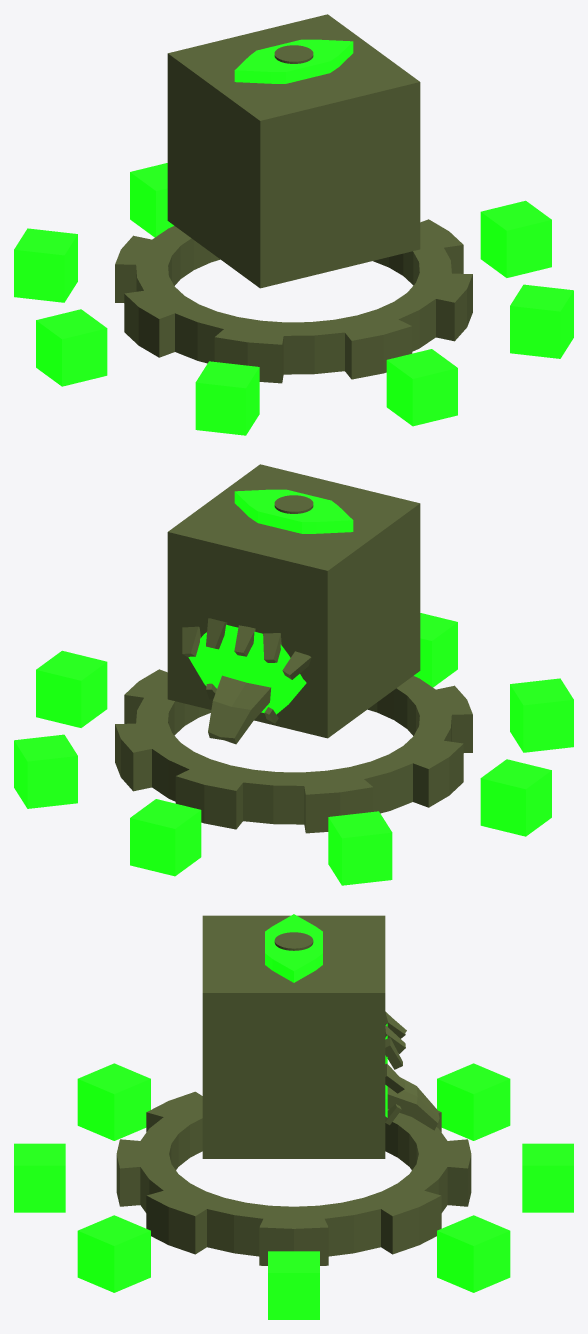
The model's file is earthminion.glb.
3 views of the same model, one above another, from view 1: azimuth 30°, elevation 25°; view 2: azimuth 150°, elevation 25°; view 3: azimuth 270°, elevation 25° (orthographic).
Parts seen in each view (by area): view 1: MinionHead, Gear, Orbiter.004, Orbiter.006, Orbiter, Orbiter.001, Orbiter.007, Orbiter.003, Orbiter.002; view 2: MinionHead, Gear, Orbiter.004, Orbiter.002, Orbiter, Orbiter.007, Orbiter.001, Orbiter.005, Orbiter.006; view 3: MinionHead, Gear, Orbiter.005, Orbiter.003, Orbiter.001, Orbiter.007, Orbiter.002, Orbiter.006, Orbiter.
Boxes of the visible parts, box(x1,y1,x2,y2) form: MinionHead: box(167, 14, 420, 288); Gear: box(115, 219, 472, 383); Orbiter.004: box(36, 309, 107, 386); Orbiter.006: box(386, 349, 457, 426); Orbiter: box(480, 200, 551, 277); Orbiter.001: box(195, 361, 259, 435); Orbiter.007: box(14, 228, 77, 302); Orbiter.003: box(510, 284, 573, 358); Orbiter.002: box(130, 163, 173, 237); MinionHead: box(167, 464, 420, 744); Gear: box(115, 669, 472, 833); Orbiter.004: box(480, 759, 551, 836); Orbiter.002: box(130, 799, 201, 876); Orbiter: box(36, 650, 107, 727); Orbiter.007: box(328, 811, 392, 885); Orbiter.001: box(510, 678, 573, 752); Orbiter.005: box(14, 734, 77, 808); Orbiter.006: box(414, 613, 457, 687); MinionHead: box(202, 914, 439, 1158); Gear: box(116, 1091, 471, 1265); Orbiter.005: box(437, 1215, 510, 1292); Orbiter.003: box(77, 1215, 150, 1292); Orbiter.001: box(77, 1063, 150, 1140); Orbiter.007: box(437, 1063, 510, 1140); Orbiter.002: box(522, 1143, 573, 1212); Orbiter.006: box(14, 1143, 65, 1212); Orbiter: box(268, 1251, 319, 1319).
Size of the model in its own units: 4.55 by 2.34 by 4.55.
